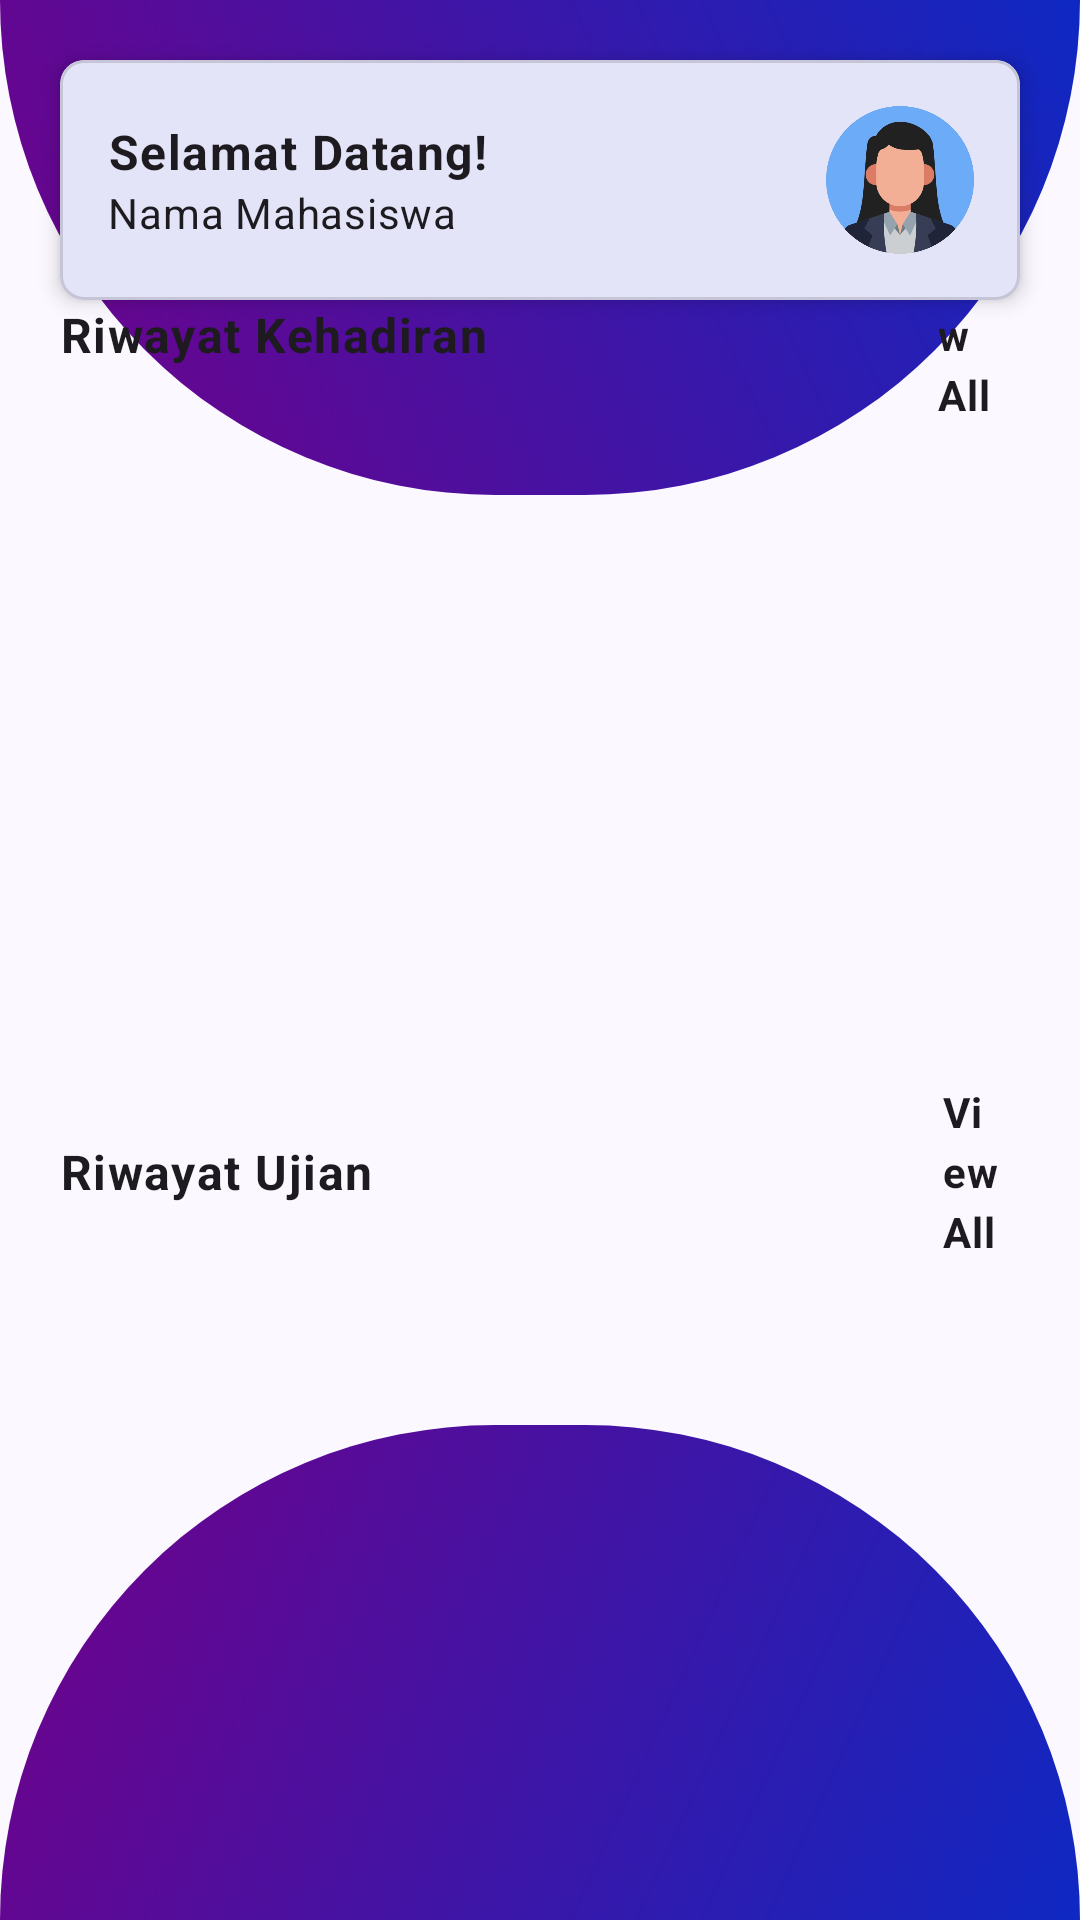

Icons on this 1080x1920 Android screen, each with its box as (x1, y1, x2, y2):
profil: (826, 106, 974, 254)
